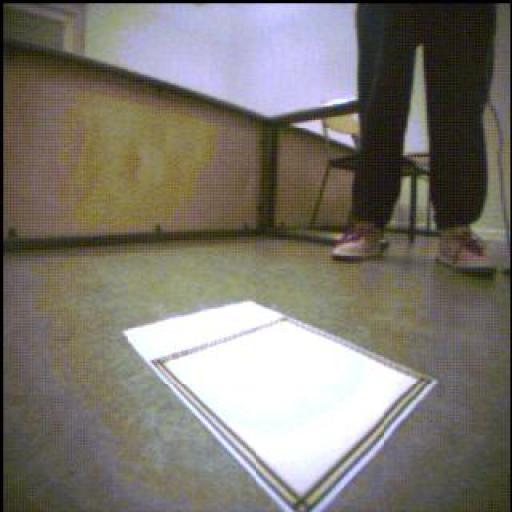Pad: (126, 302, 438, 512)
